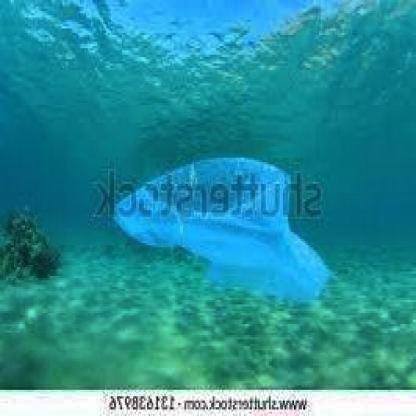pbag: (109, 155, 332, 309)
